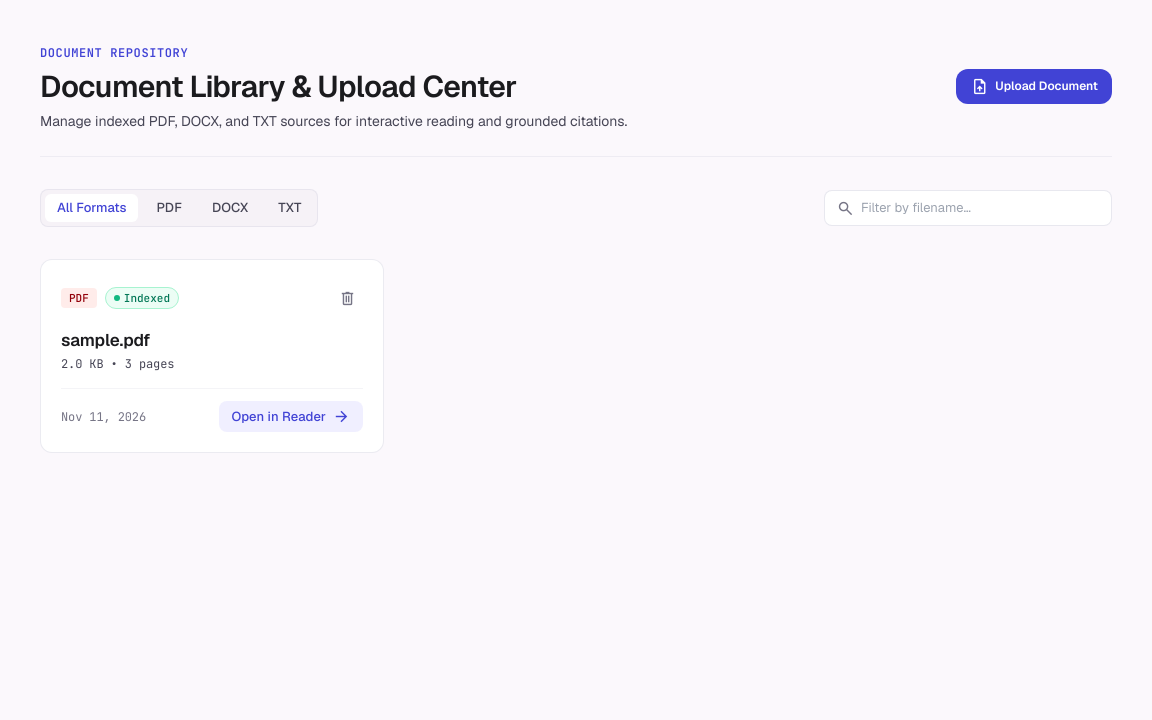
Optimistic document deletion › removes the document and closes the modal immediately while DELETE is in flight
This screenshot has width=1152, height=720.
Expected: the heading "sample.pdf" is shown, x1=61 y1=329 x2=150 y2=351
What coordinates should you click on to do the following:
click the button named "delete sample.pdf"
I would click on:
 (348, 298)
Its box is x1=332 y1=280 x2=363 y2=316.
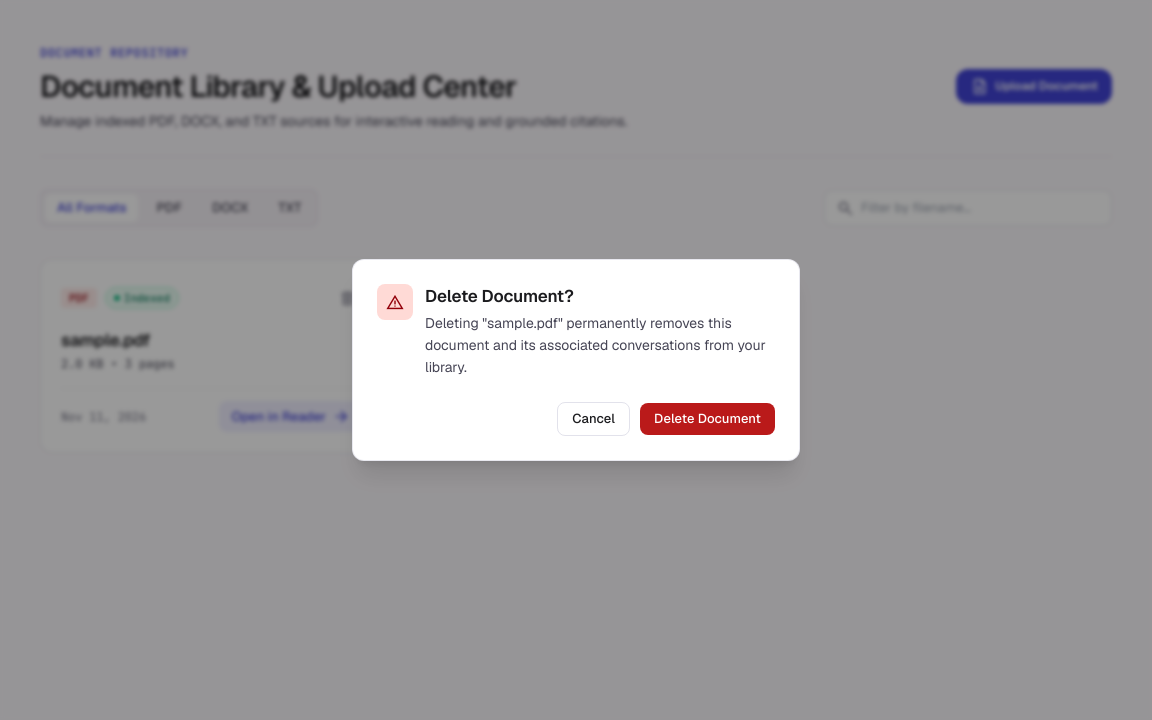
Expected: the dialog "Delete Document?" is shown
What coordinates should you click on to do the following:
click the button "Delete Document"
I would click on:
 (708, 419)
Its box is x1=640 y1=403 x2=775 y2=435.
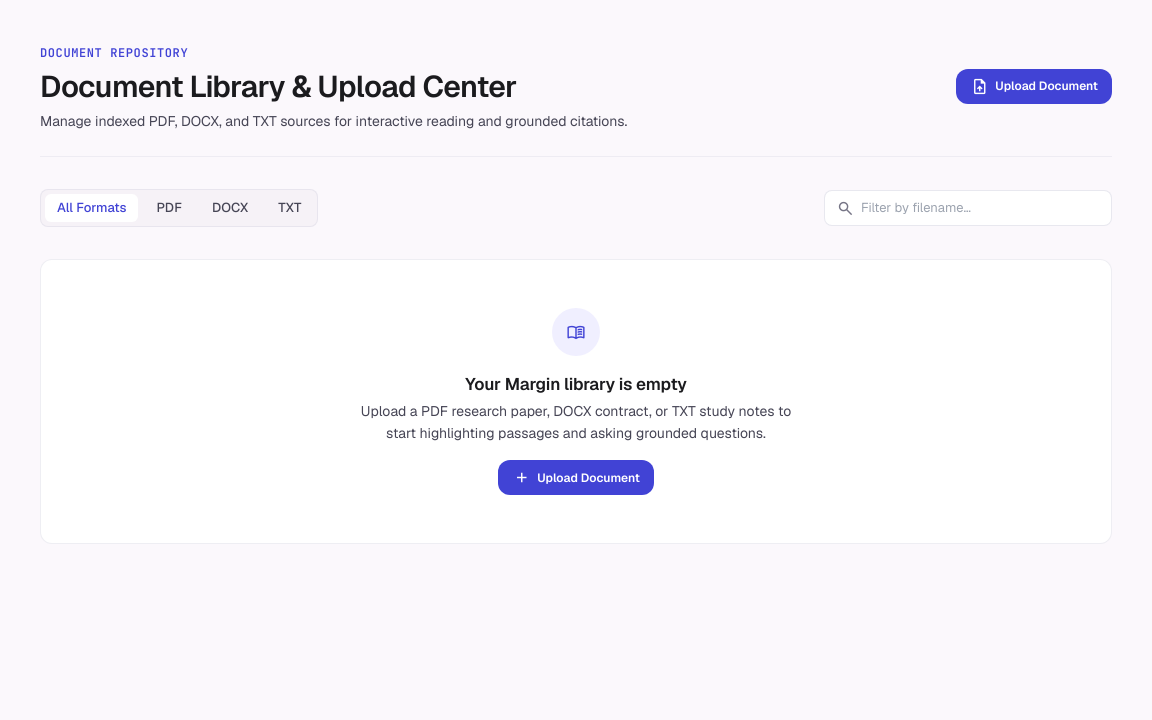
Expected: the heading "Delete Document?" is gone
Expected: the heading "sample.pdf" is gone
Expected: the heading "Your Margin library is empty" is shown, x1=465 y1=373 x2=687 y2=395
